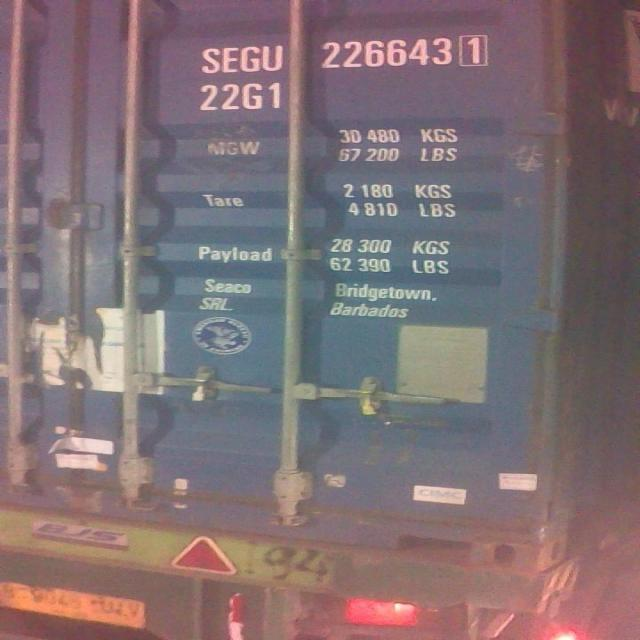seal: (188, 369, 216, 406), (358, 388, 386, 417)
